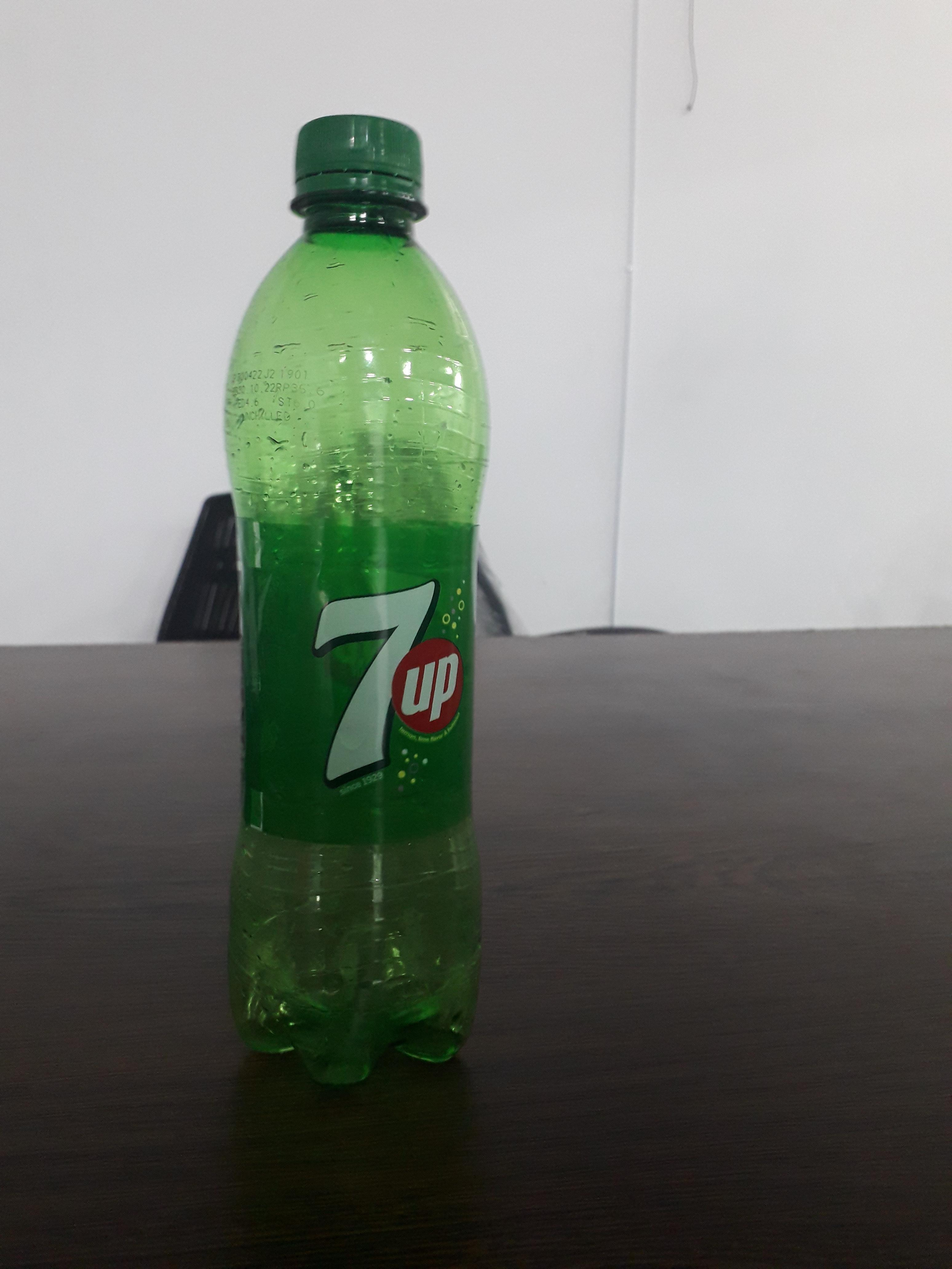bottle-plastic: (213, 112, 507, 1083)
